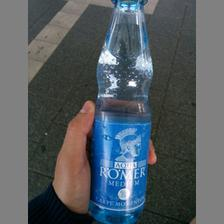Wasser: (91, 0, 153, 224)
